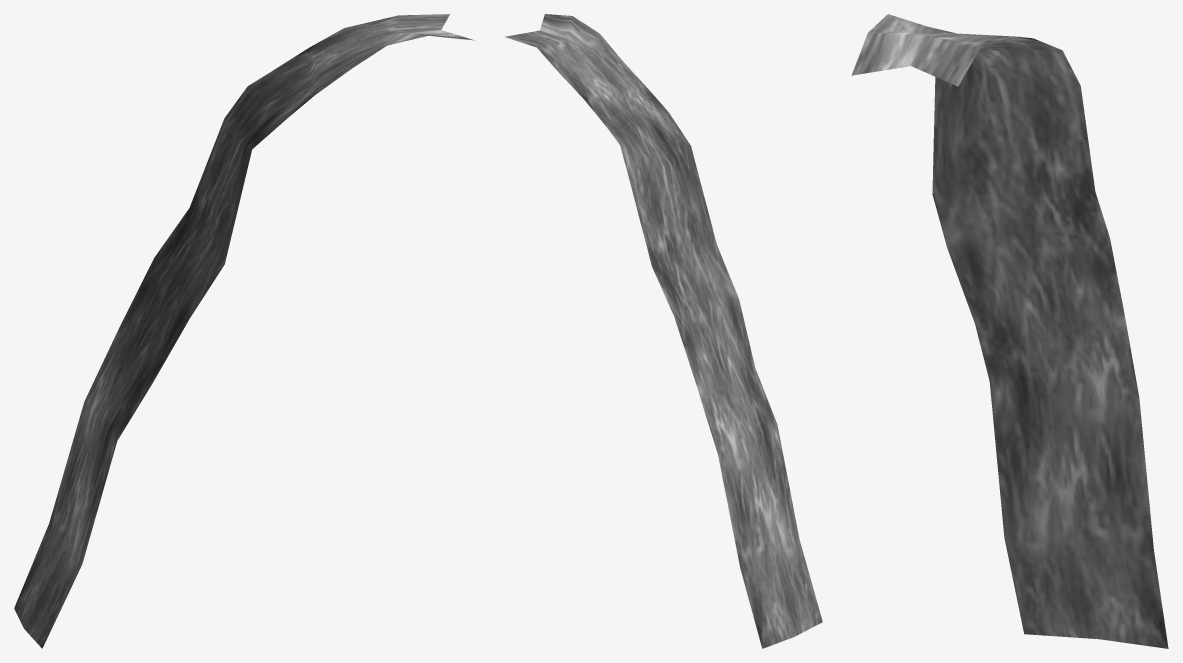
3 views of the same model, side by side, from view 1: azimuth 30°, elevation 25°; view 2: azimuth 150°, elevation 25°; view 3: azimuth 270°, elevation 25° (orthographic). The views are drawn at different scales.
Visible parts, largest first — view 1: Object03; view 2: Object03; view 3: Object03.
Part boxes in pixels (bbox=[...]): Object03: bbox=[14, 14, 475, 648]; Object03: bbox=[504, 14, 822, 648]; Object03: bbox=[851, 14, 1168, 648].
Bounding box in the file's own units: 376 × 532 × 181.
